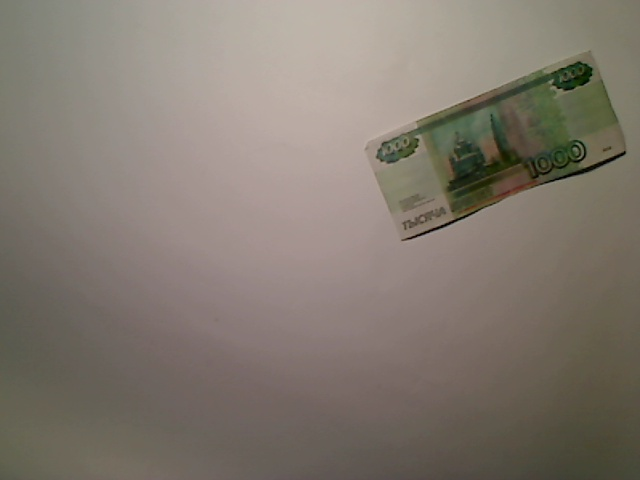banknotes: (363, 50, 627, 241)
